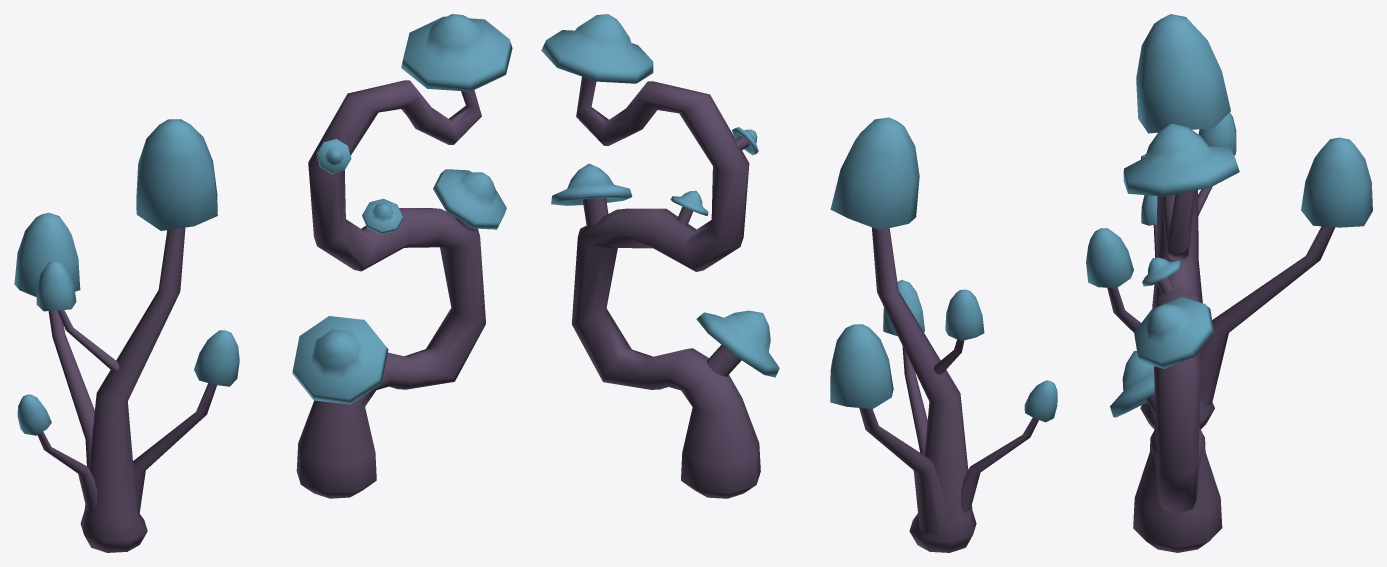
Rendered from Mushrooms old.fbx.
The picture shows the model from 3 angles, left to right: view 1: azimuth 30°, elevation 25°; view 2: azimuth 150°, elevation 25°; view 3: azimuth 270°, elevation 25°; orthographic projection. The views are drawn at different scales.
Parts seen in each view (by area): view 1: Mushroom_02, Mushroom_01; view 2: Mushroom_02, Mushroom_01; view 3: Mushroom_02, Mushroom_01.
Part boxes in pixels (x1,y1,x2,y2): Mushroom_02: [292, 14, 512, 498]; Mushroom_01: [14, 119, 239, 552]; Mushroom_02: [541, 14, 779, 498]; Mushroom_01: [830, 117, 1057, 552]; Mushroom_02: [1110, 123, 1239, 552]; Mushroom_01: [1086, 14, 1372, 429].
Bounding box in the file's own units: 21.59 × 18.5 × 10.06.
